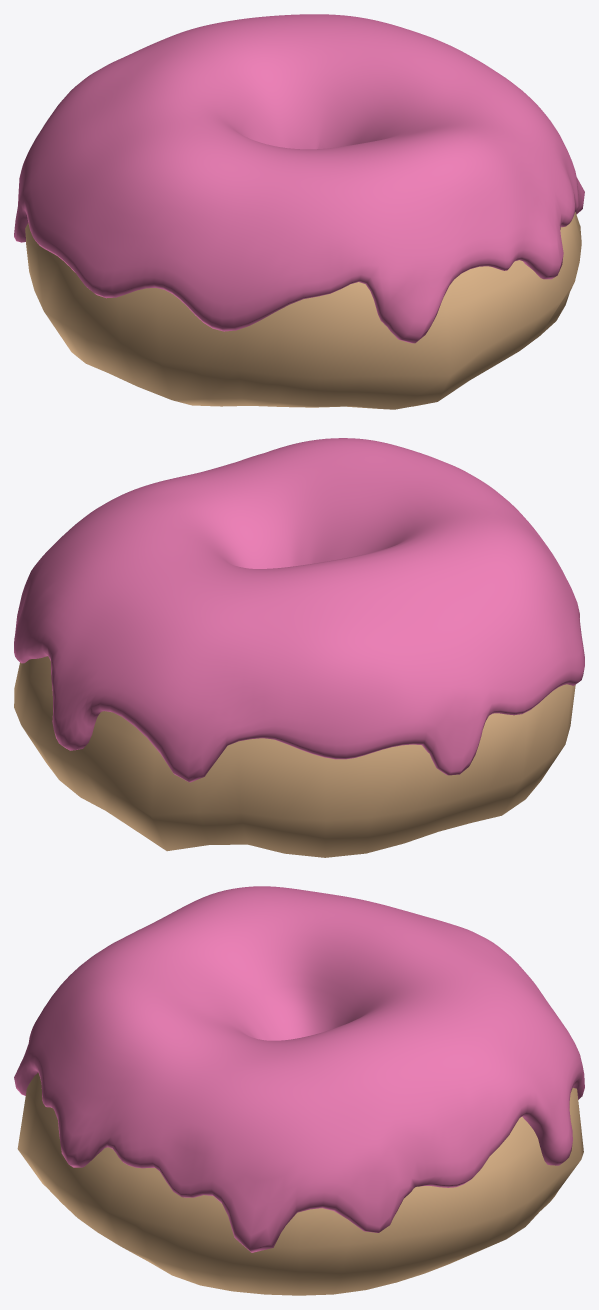
The model's file is donut.glb.
3 views of the same model, one above another, from view 1: azimuth 30°, elevation 25°; view 2: azimuth 150°, elevation 25°; view 3: azimuth 270°, elevation 25° (orthographic). The views are drawn at different scales.
Visible parts, largest first — view 1: Icing, Donut; view 2: Icing, Donut; view 3: Icing, Donut.
Boxes of the visible parts, x1,y1,x2,y2 form: Icing: (14,14,584,343); Donut: (25,212,581,409); Icing: (14,438,584,782); Donut: (14,656,575,857); Icing: (14,886,584,1252); Donut: (17,1072,583,1295).
Size of what is drawn, in the model's own units: 0.1076 by 0.053 by 0.1074.
